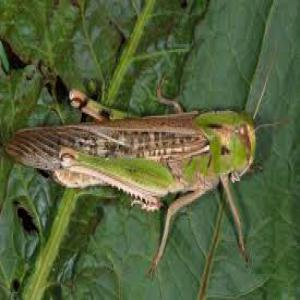locust: (4, 66, 279, 215)
